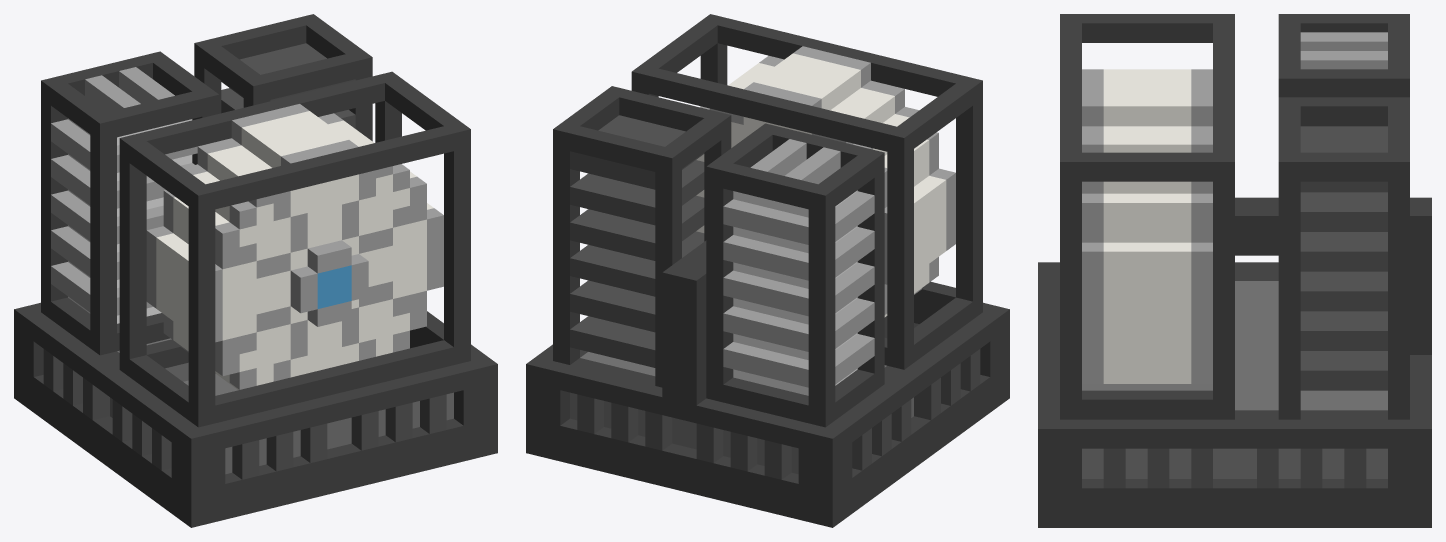
The model's file is Data_Bank.obj.
The picture shows the model from 3 angles, left to right: view 1: azimuth 30°, elevation 25°; view 2: azimuth 150°, elevation 25°; view 3: azimuth 270°, elevation 25°; orthographic projection. The views are drawn at different scales.
Size of the model in its own units: 18 by 18 by 18.
Materials: 1 (1 with a texture image).
